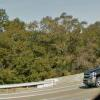Car: (79, 64, 99, 88)
